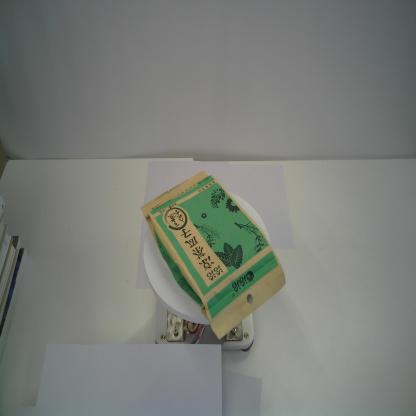Dried Food: (139, 169, 287, 343)
